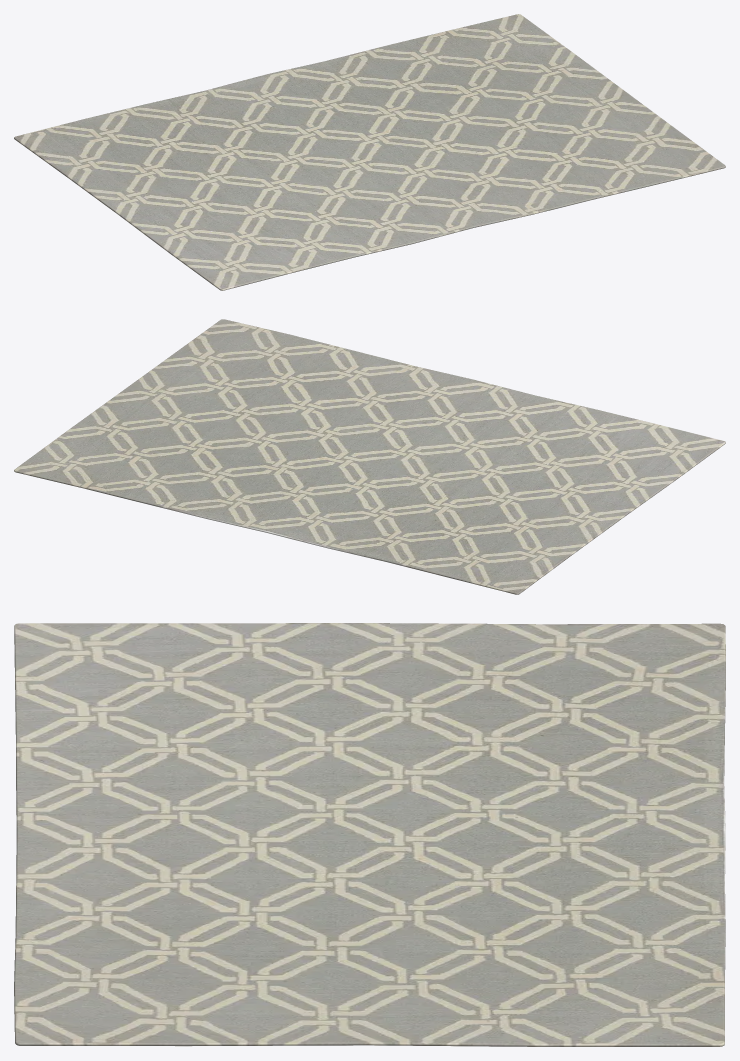
The model's file is abo-B072LY32TR.glb.
3 renders of one model, top to bottom at view 1: azimuth 30°, elevation 25°; view 2: azimuth 150°, elevation 25°; view 3: azimuth 270°, elevation 25°, orthographic. The views are drawn at different scales.
Size of the model in its own units: 2.13 by 0.013 by 1.52.
1 material, 1 textured.
